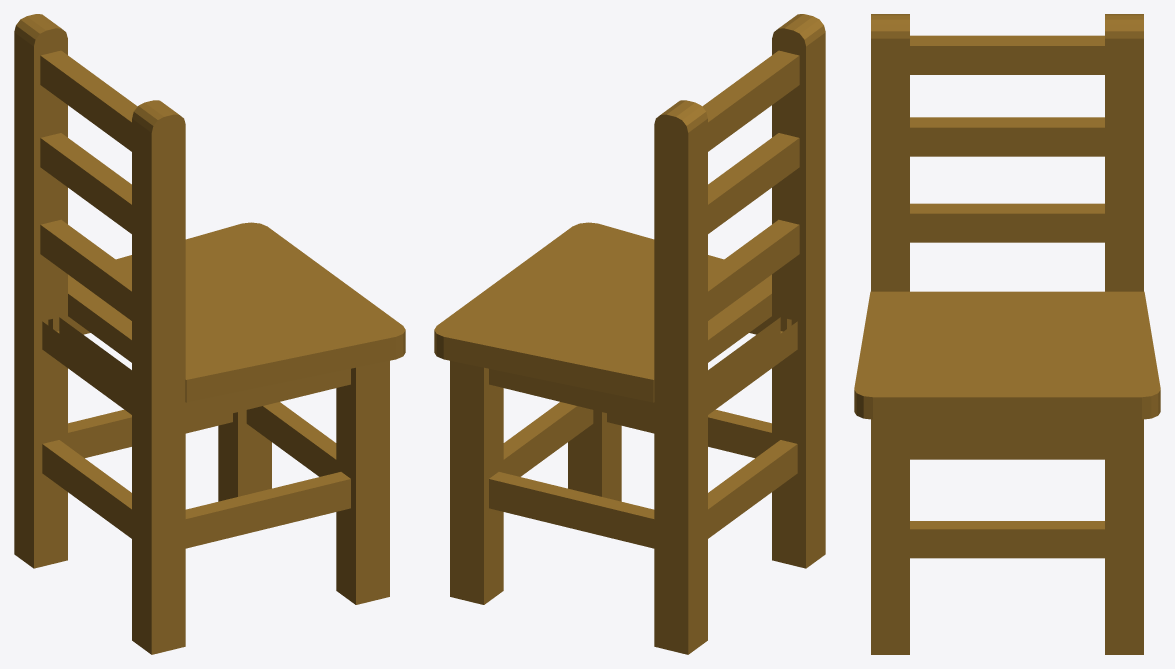
Rendered from Low Poly Chair.fbx.
3 views of the same model, side by side, from view 1: azimuth 30°, elevation 25°; view 2: azimuth 150°, elevation 25°; view 3: azimuth 270°, elevation 25° (orthographic).
Visible parts, largest first — view 1: Cube.001; view 2: Cube.001; view 3: Cube.001.
Boxes of the visible parts, x1,y1,x2,y2 form: Cube.001: (14,14,405,654); Cube.001: (434,14,825,654); Cube.001: (854,14,1160,654).
Bounding box in the file's own units: 297 × 601 × 315.
